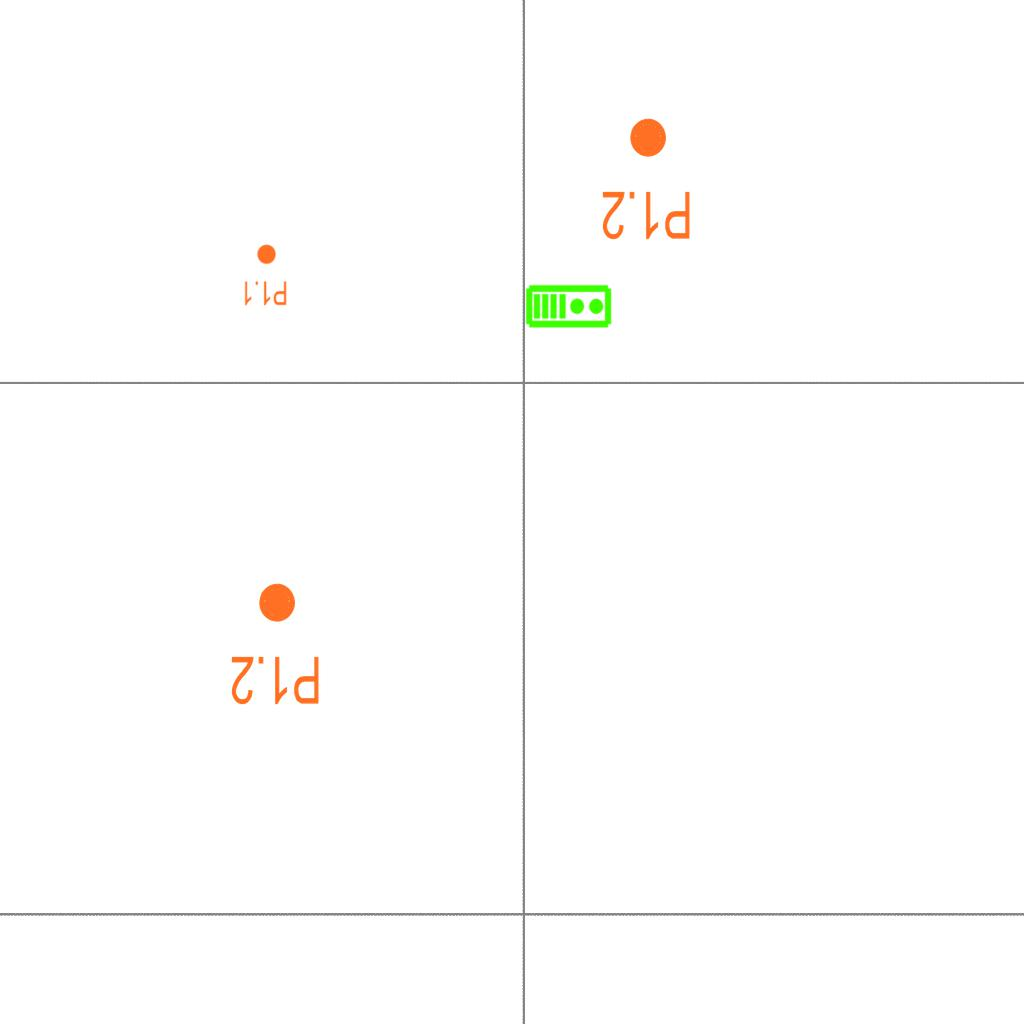Downlight_LED_Einbauleuchten_Flur: (229, 580, 322, 708), (600, 115, 693, 243), (242, 243, 288, 307)
Gegensprechanlage_mit_Video: (525, 282, 613, 329)
